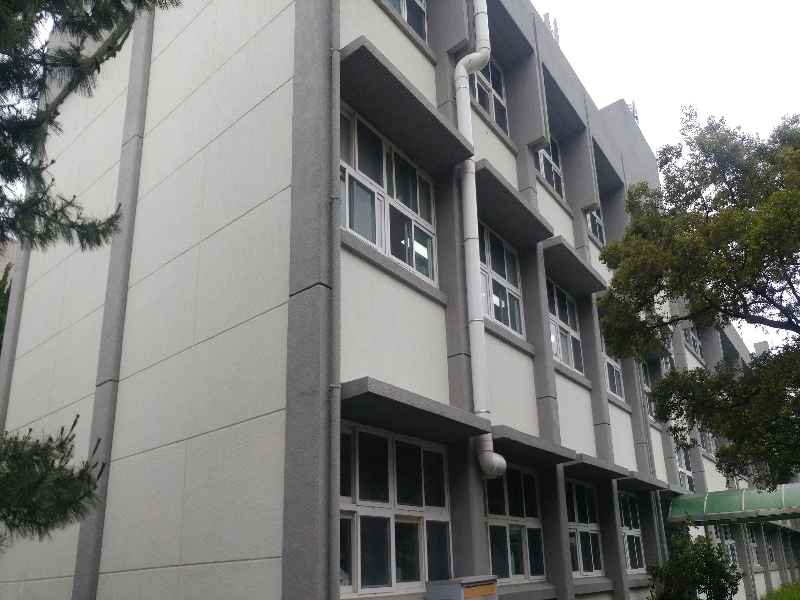Cultural lecture hall: (61, 13, 753, 486)
